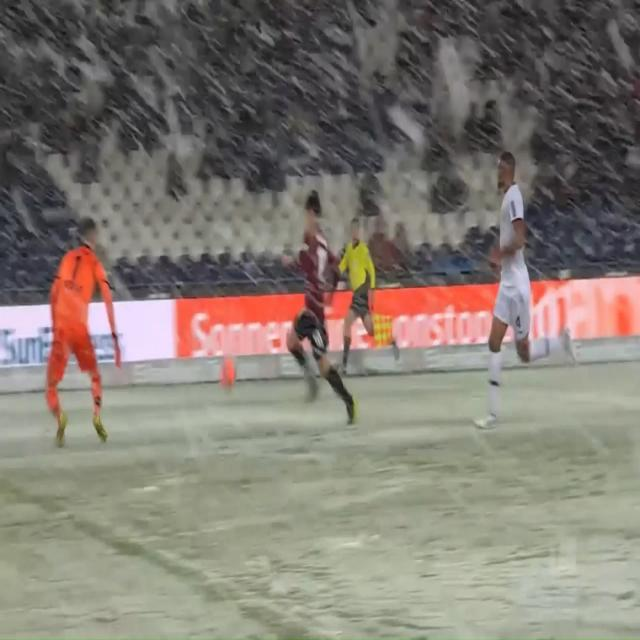ball: (212, 350, 243, 397)
goalkeeper: (29, 201, 126, 458)
player: (468, 145, 582, 445), (281, 178, 357, 431), (334, 208, 401, 390)
